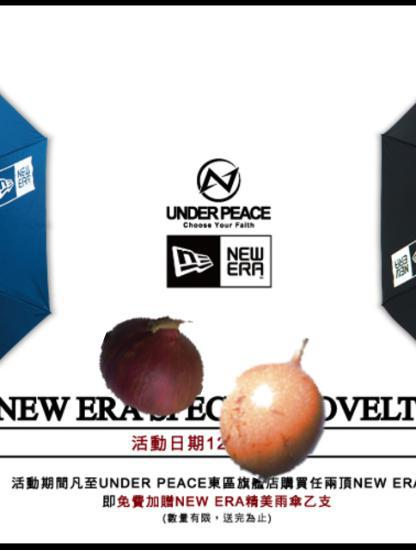Granadilla: (205, 333, 354, 482)
Onion: (98, 309, 209, 420)
